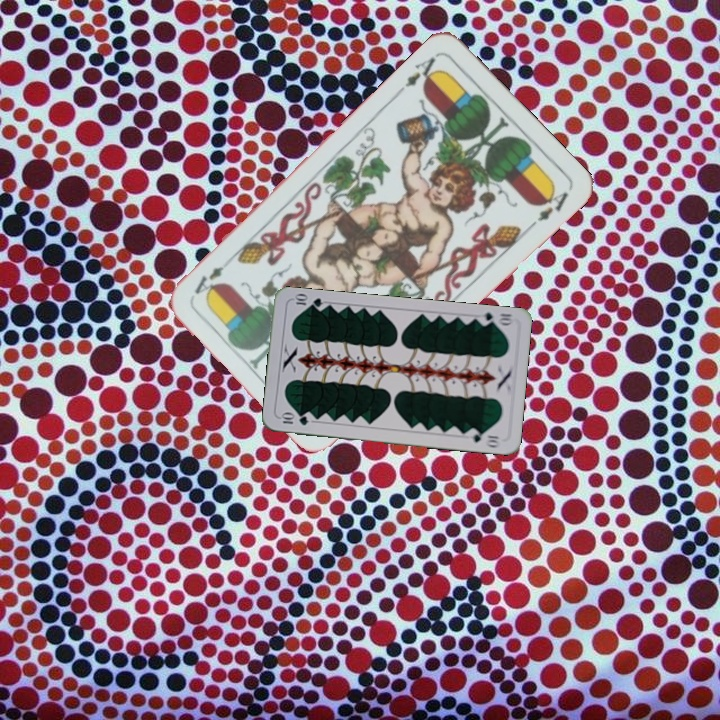EA: (394, 51, 444, 97)
G10: (475, 308, 516, 329), (277, 410, 311, 428)
